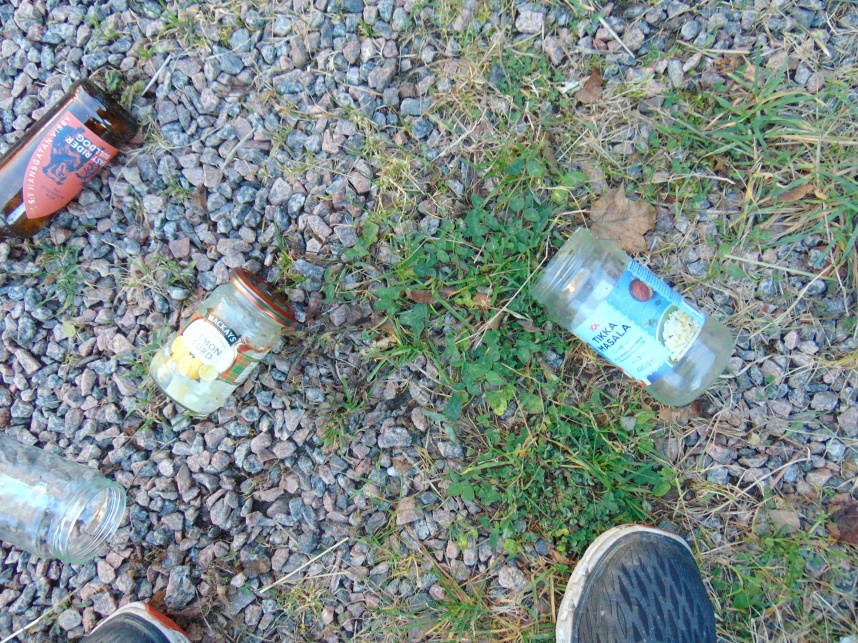glass_bottle: (529, 226, 734, 404), (1, 79, 138, 252), (146, 270, 290, 419), (1, 428, 127, 565)
